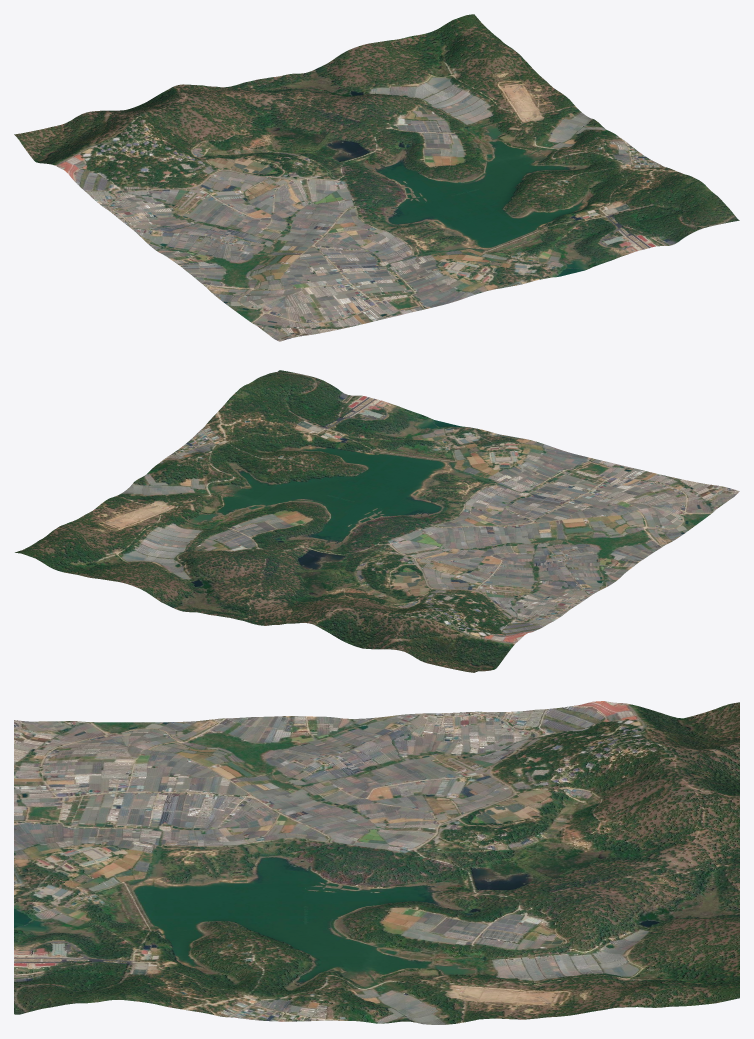
File: terrain_real_T_E01_N02.glb
The picture shows the model from 3 angles, top to bottom: view 1: azimuth 30°, elevation 25°; view 2: azimuth 150°, elevation 25°; view 3: azimuth 270°, elevation 25°; orthographic projection. The views are drawn at different scales.
Visible parts, largest first — view 1: TerrainReal_T_E01_N02; view 2: TerrainReal_T_E01_N02; view 3: TerrainReal_T_E01_N02.
Part boxes in pixels (left/top/right/bottom): TerrainReal_T_E01_N02: left=14, top=14, right=739, bottom=341; TerrainReal_T_E01_N02: left=15, top=370, right=739, bottom=672; TerrainReal_T_E01_N02: left=14, top=701, right=739, bottom=1024.
Bounding box in the file's own units: 2000 × 124 × 2000.
1 material, 1 textured.
